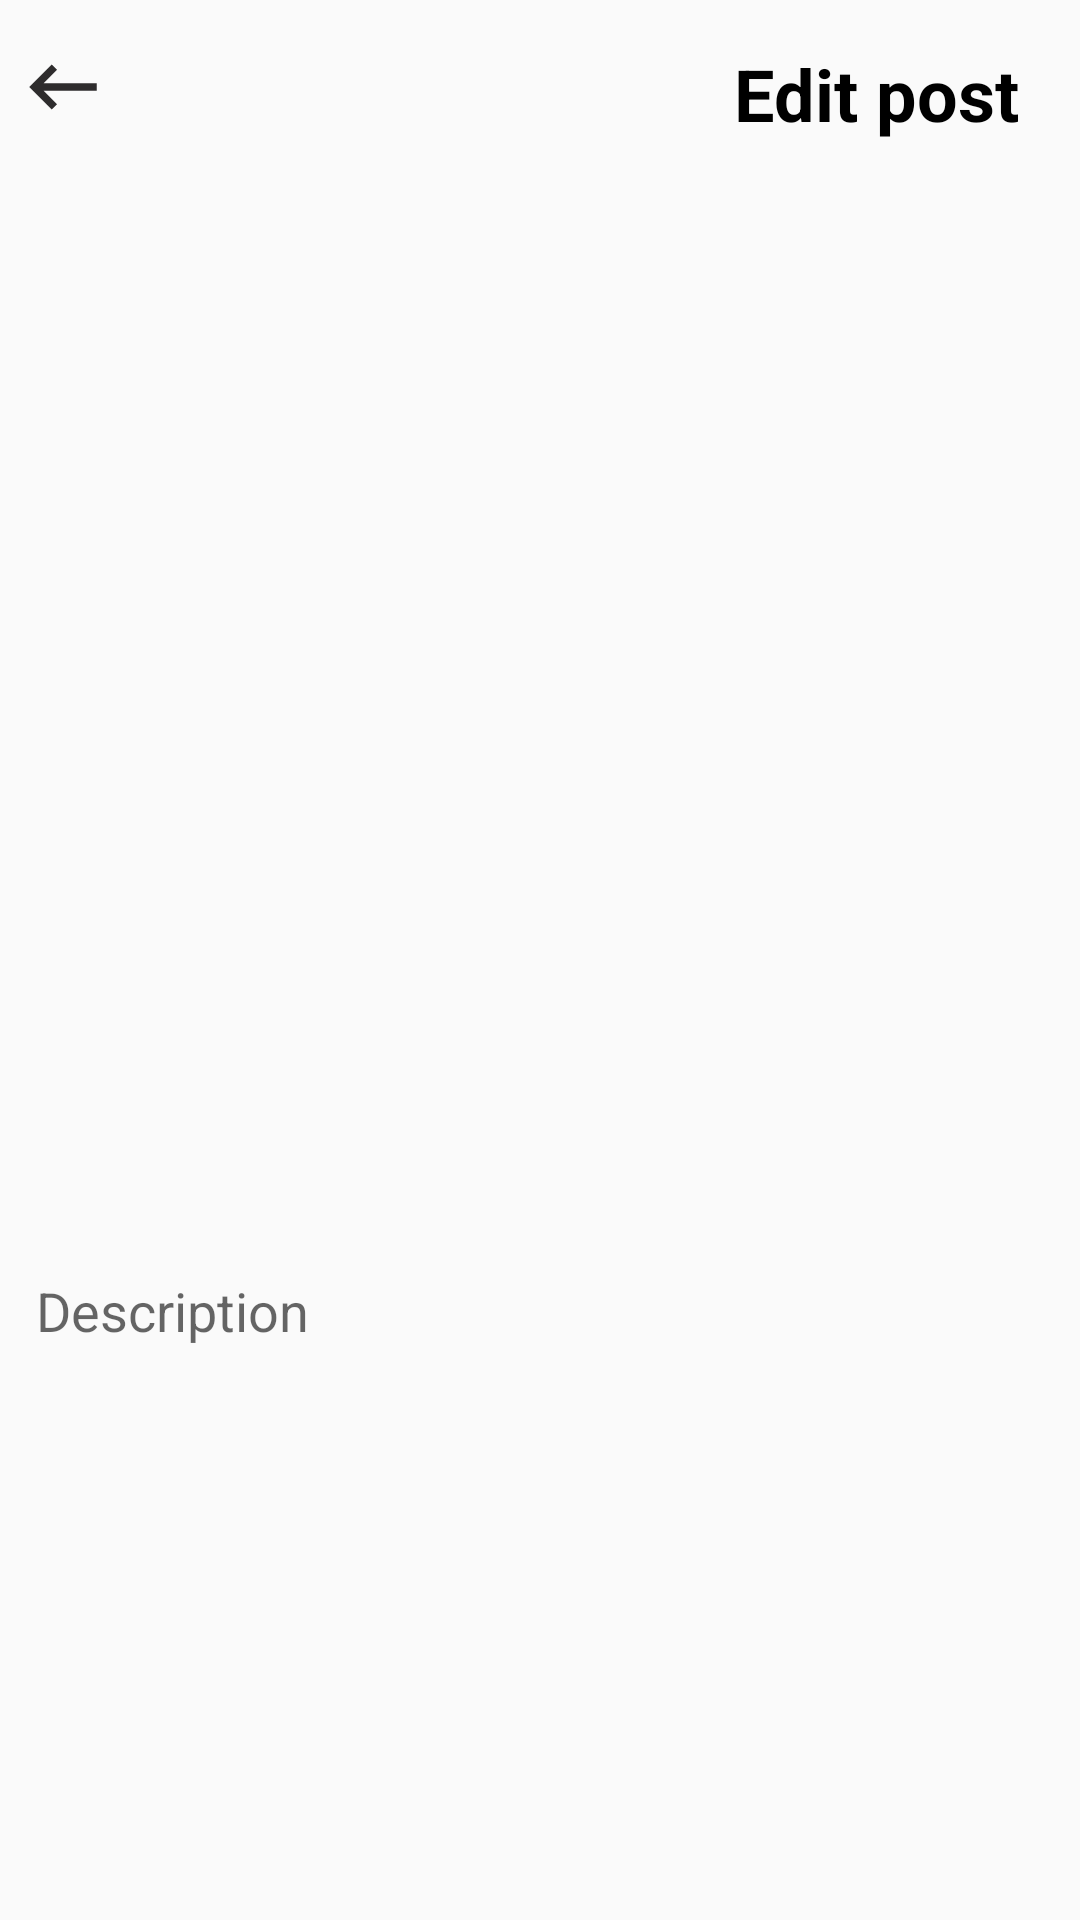

Screen size 1080x1920. Icon name, then its center in pixels as (x,y):
back: (63,87)
